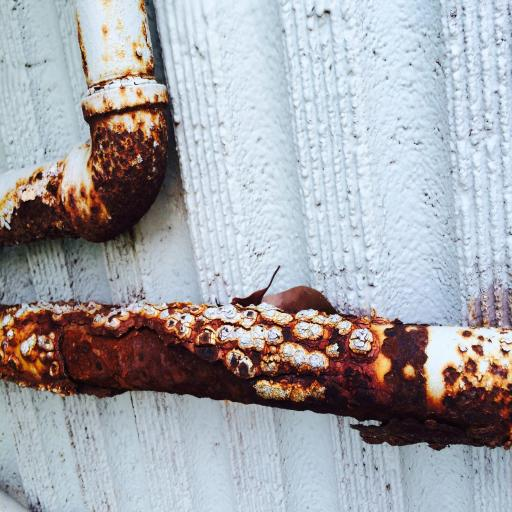segmentation: (0, 289, 512, 450), (0, 0, 168, 245), (0, 334, 68, 388)
